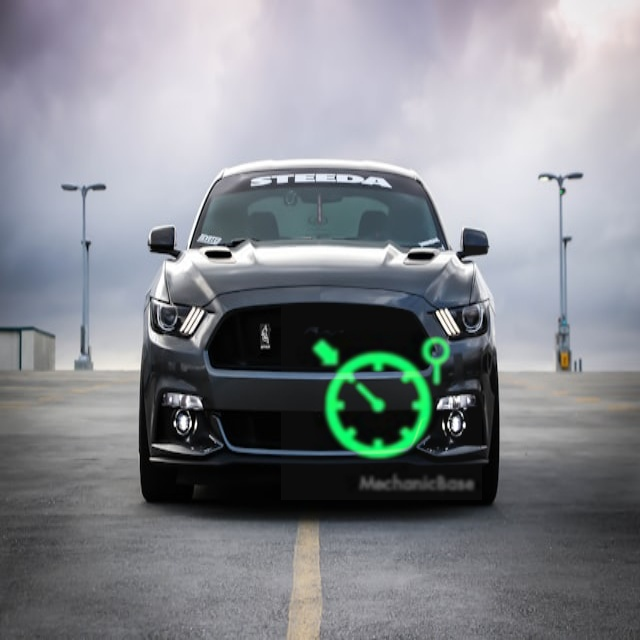symbol: (281, 299, 482, 500), (465, 144, 591, 270)
